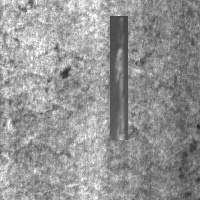crazing: (105, 124, 178, 175), (11, 102, 75, 157)
scratches: (110, 16, 128, 140)
